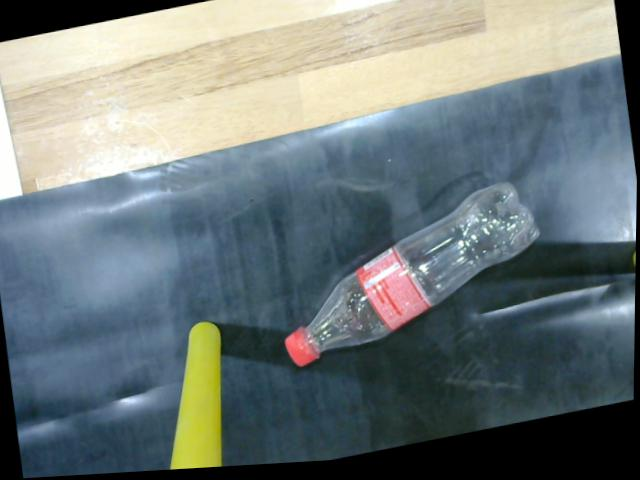bottle: (284, 179, 547, 376)
